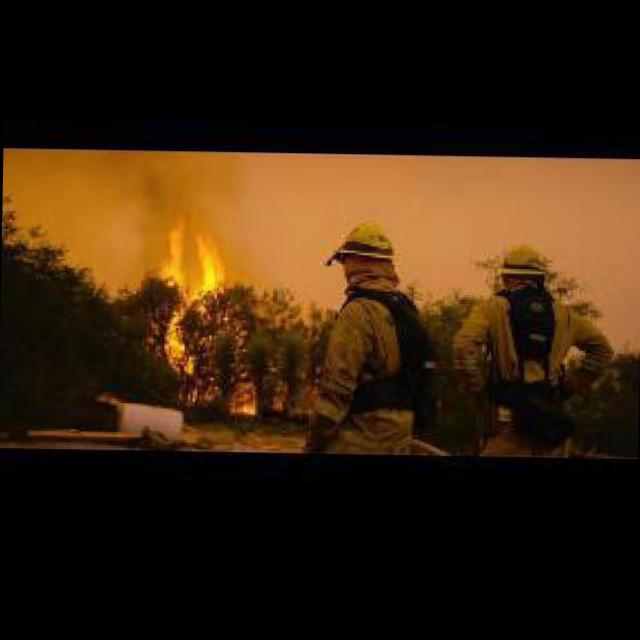fire: (140, 200, 267, 416)
